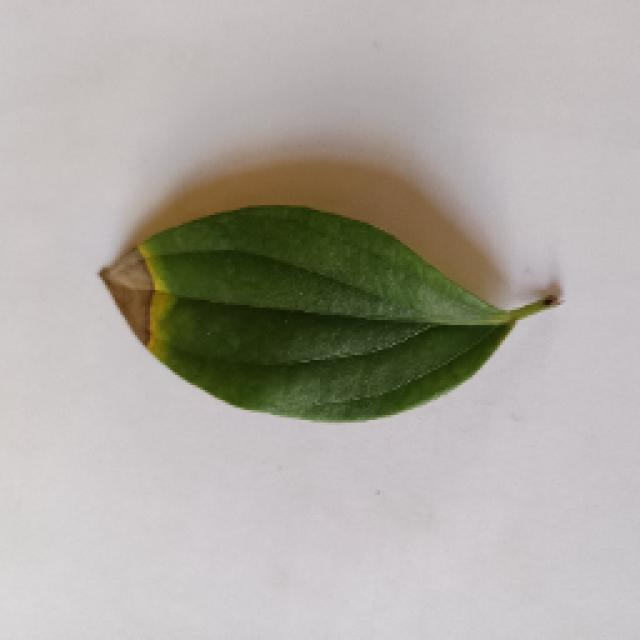footrot: (98, 178, 562, 418)
